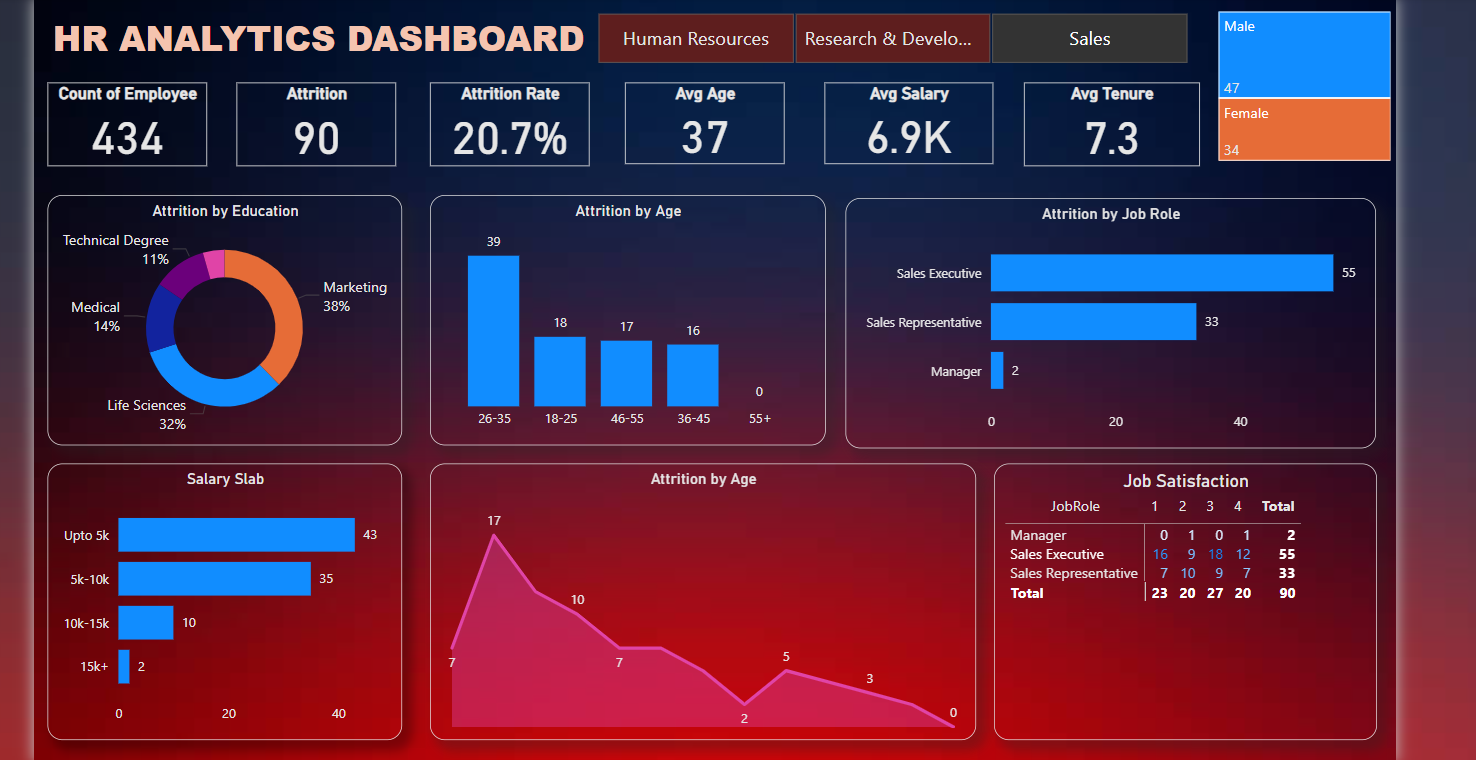

What the dashboard file says about the page in this screenshot:
{"tool":"powerbi","page":{"name":"Page 1","canvas":[1280,720],"ordinal":0},"visuals":[{"type":"card","title":"Count of Employee","fields":{"Values":["CountNonNull(HR_Analytics.EmpID)"]},"box":[13.3,80,150,78.3],"z":0},{"type":"card","title":"Attrition  ","fields":{"Values":["Sum(HR_Analytics.AttritionCount)"]},"box":[190,80,150,78.3],"z":1000},{"type":"card","title":"Attrition Rate","fields":{"Values":["HR_Analytics.AttritionRate"]},"box":[371.7,80,150,78.3],"z":2000},{"type":"card","title":"Avg Age","fields":{"Values":["HR_Analytics.AverageAge"]},"box":[555,80,150,76.7],"z":3000},{"type":"card","title":"Avg Salary","fields":{"Values":["Avg(HR_Analytics.MonthlyIncome)"]},"box":[743.3,80,158.3,76.7],"z":4000},{"type":"card","title":"Avg Age","fields":{"Values":["Avg(HR_Analytics.YearsAtCompany)"]},"box":[930,80,165,78.3],"z":5000},{"type":"donutChart","title":"Attrition  by Education","fields":{"Category":["HR_Analytics.EducationField"],"Y":["Sum(HR_Analytics.AttritionCount)"]},"box":[13.3,186.7,333.3,235],"z":6000},{"type":"columnChart","title":"Attrition  by Age","fields":{"Category":["HR_Analytics.AgeGroup"],"Y":["Sum(HR_Analytics.AttritionCount)"]},"box":[371.7,186.7,371.7,235],"z":7000},{"type":"pivotTable","title":"Job  Satisfaction","fields":{"Columns":["HR_Analytics.JobSatisfaction"],"Rows":["HR_Analytics.JobRole"],"Values":["Sum(HR_Analytics.AttritionCount)"]},"box":[901.7,438.3,360,260],"z":8000},{"type":"clusteredBarChart","title":"Salary Slab","fields":{"Y":["Sum(HR_Analytics.AttritionCount)"],"Category":["HR_Analytics.SalarySlab"]},"box":[13.3,438.3,333.3,260],"z":9000},{"type":"clusteredBarChart","title":"Attrition  by Job Role","fields":{"Category":["HR_Analytics.JobRole"],"Y":["Sum(HR_Analytics.AttritionCount)"]},"box":[763.3,188.3,498.3,235],"z":10000},{"type":"areaChart","title":"Attrition  by Age","fields":{"Category":["HR_Analytics.YearsAtCompany"],"Y":["Sum(HR_Analytics.AttritionCount)"]},"box":[371.7,438.3,513.3,260],"z":11000},{"type":"treemap","title":"Attrition  by Age","fields":{"Values":["Sum(HR_Analytics.AttritionCount)"],"Group":["HR_Analytics.Gender"]},"box":[1108.3,8.3,171.7,150],"z":12000},{"type":"slicer","fields":{"Values":["HR_Analytics.Department"]},"box":[505,8.3,603.3,60],"z":13000},{"type":"textbox","box":[13.3,10,546.7,60],"z":13001}]}

Visuals, with their boxes on the page's 1280x720 design canvas (x1, y1, x2, y2). These are canvas units, not pixel positions in the 1476x760 screenshot, which may show the page scaled, cropped or inside an application window:
"Count of Employee" card: l=13, t=80, r=163, b=158
"Attrition  " card: l=190, t=80, r=340, b=158
"Attrition Rate" card: l=372, t=80, r=522, b=158
"Avg Age" card: l=555, t=80, r=705, b=157
"Avg Salary" card: l=743, t=80, r=902, b=157
"Avg Age" card: l=930, t=80, r=1095, b=158
"Attrition  by Education" donutChart: l=13, t=187, r=347, b=422
"Attrition  by Age" columnChart: l=372, t=187, r=743, b=422
"Job  Satisfaction" pivotTable: l=902, t=438, r=1262, b=698
"Salary Slab" clusteredBarChart: l=13, t=438, r=347, b=698
"Attrition  by Job Role" clusteredBarChart: l=763, t=188, r=1262, b=423
"Attrition  by Age" areaChart: l=372, t=438, r=885, b=698
"Attrition  by Age" treemap: l=1108, t=8, r=1280, b=158
slicer - HR_Analytics.Department: l=505, t=8, r=1108, b=68
textbox: l=13, t=10, r=560, b=70
